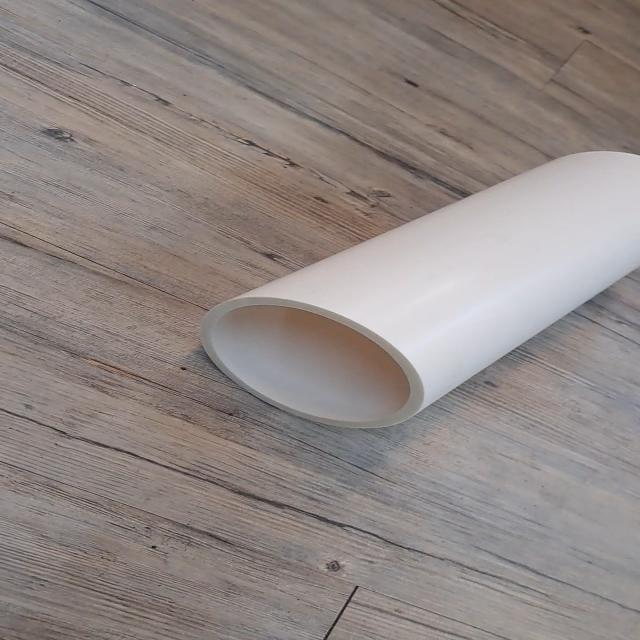CORAL: (169, 138, 640, 444)
